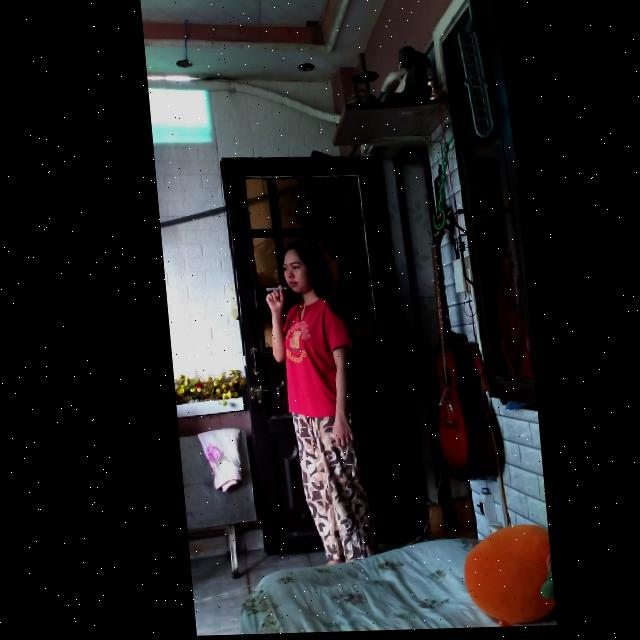cigarette: (261, 288, 281, 292)
